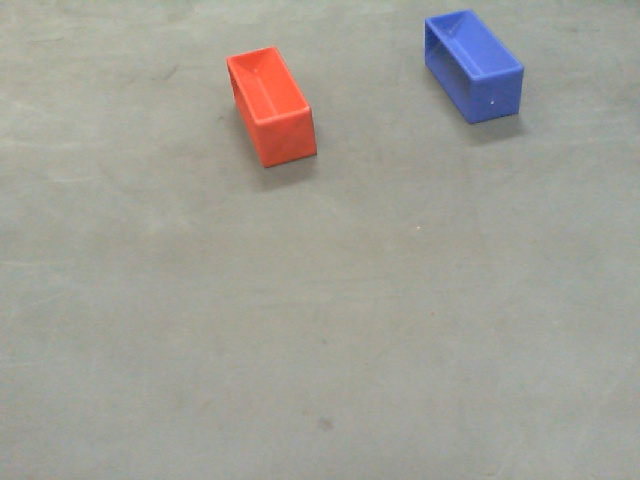BlueSample: (418, 9, 527, 127)
RedSample: (225, 45, 320, 170)
